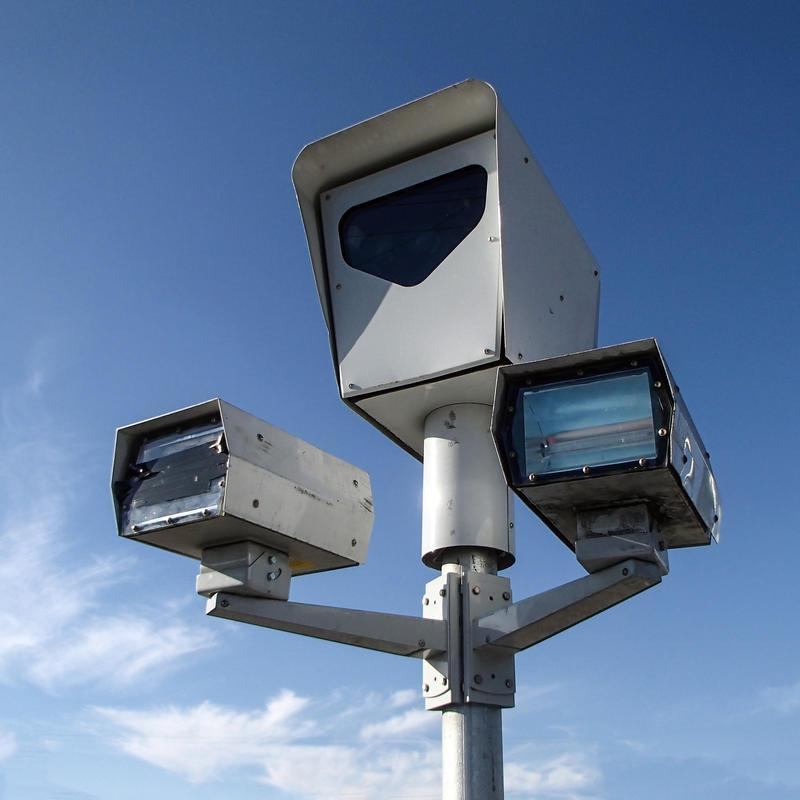Monitor: (276, 84, 607, 455), (490, 336, 720, 569), (109, 396, 374, 582)
